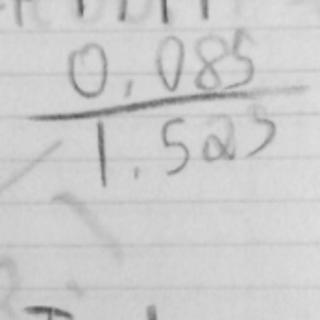.: (118, 76, 141, 100), (130, 163, 144, 179)
0: (66, 38, 110, 98), (156, 34, 184, 92)
1: (94, 118, 110, 189)
2: (203, 112, 240, 162)
5: (155, 117, 193, 175), (246, 103, 281, 158), (232, 25, 261, 88)
8: (193, 34, 225, 88)
